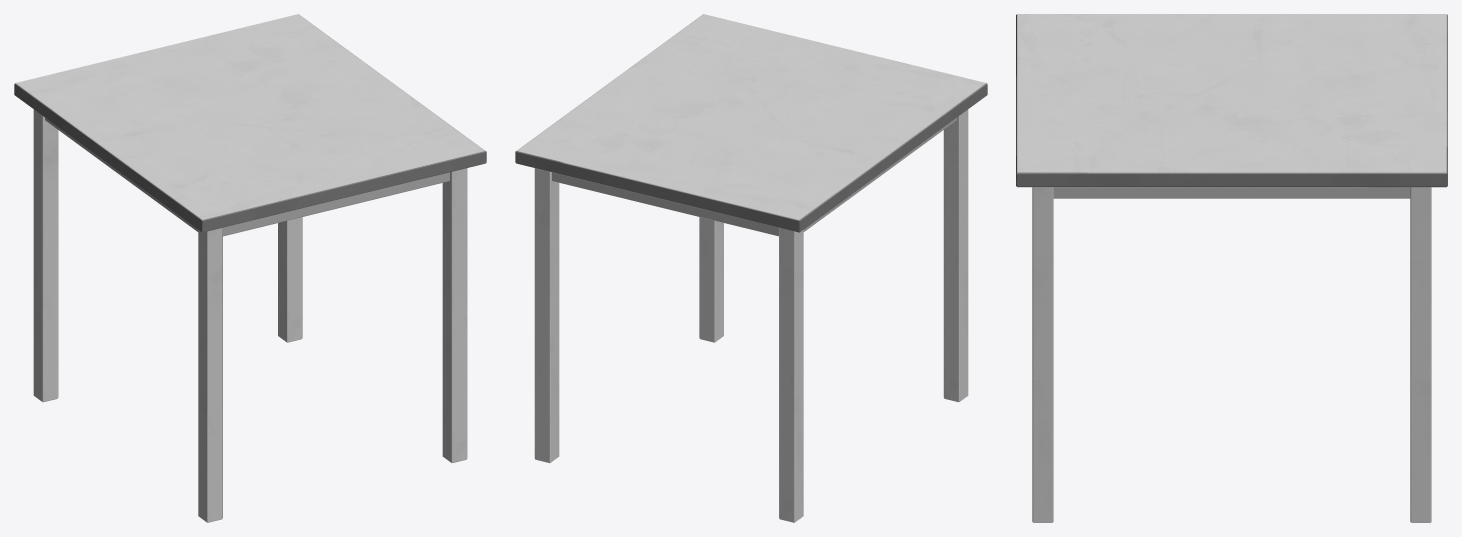
Rendered from SM_Table_70x140.fbx.
The picture shows the model from 3 angles, left to right: view 1: azimuth 30°, elevation 25°; view 2: azimuth 150°, elevation 25°; view 3: azimuth 270°, elevation 25°; orthographic projection. The views are drawn at different scales.
Parts seen in each view (by area): view 1: SM_Table_70x140_LOD0; view 2: SM_Table_70x140_LOD0; view 3: SM_Table_70x140_LOD0.
Boxes of the visible parts, left/top/right/bottom form: SM_Table_70x140_LOD0: left=14, top=14, right=486, bottom=522; SM_Table_70x140_LOD0: left=515, top=14, right=987, bottom=522; SM_Table_70x140_LOD0: left=1016, top=14, right=1447, bottom=522.
Size of the model in its own units: 64.97 by 74.25 by 67.76.
